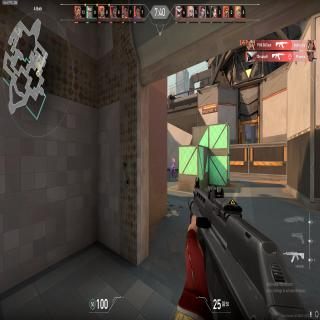ENEMY-BODY: (171, 154, 176, 180)
ENEMY-HEAD: (173, 155, 174, 159)
